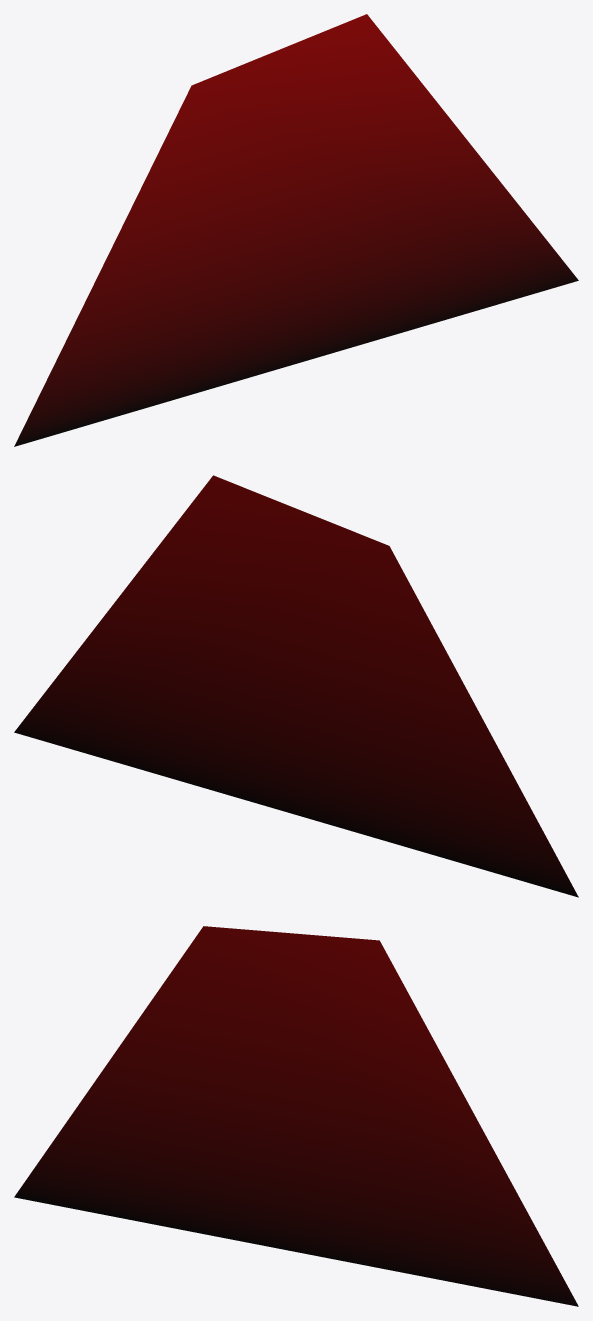
The model's file is Grass7.glb.
The picture shows the model from 3 angles, top to bottom: view 1: azimuth 30°, elevation 25°; view 2: azimuth 150°, elevation 25°; view 3: azimuth 330°, elevation 25°; orthographic projection.
Parts seen in each view (by area): view 1: Grass.006; view 2: Grass.006; view 3: Grass.006.
Boxes of the visible parts, left/top/right/bottom form: Grass.006: left=14, top=14, right=578, bottom=446; Grass.006: left=14, top=475, right=578, bottom=897; Grass.006: left=14, top=926, right=578, bottom=1306.
Bounding box in the file's own units: 0.267 × 0.1535 × 0.00548.
